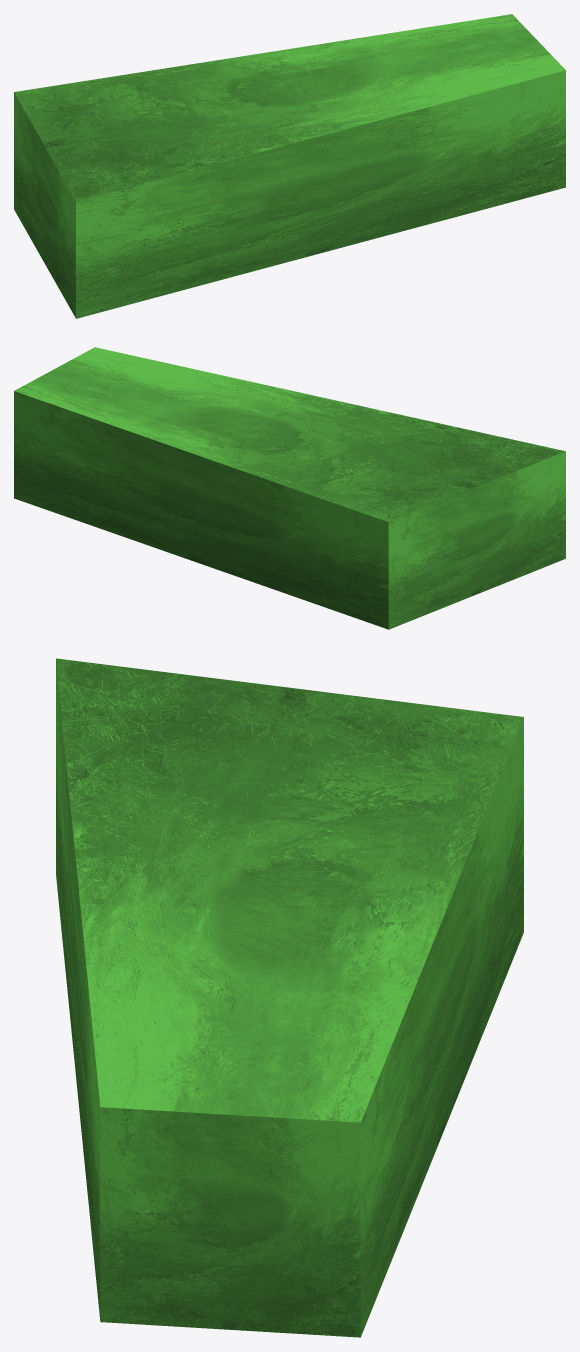
The picture shows the model from 3 angles, top to bottom: view 1: azimuth 30°, elevation 25°; view 2: azimuth 150°, elevation 25°; view 3: azimuth 270°, elevation 25°; orthographic projection. The views are drawn at different scales.
Visible parts, largest first — view 1: Ligne016; view 2: Ligne016; view 3: Ligne016.
Boxes of the visible parts, x1,y1,x2,y2 form: Ligne016: (14,14,565,318); Ligne016: (14,347,565,629); Ligne016: (56,658,523,1337).
Size of the model in its own units: 14.9 by 3.21 by 6.35.
1 material, 1 textured.
